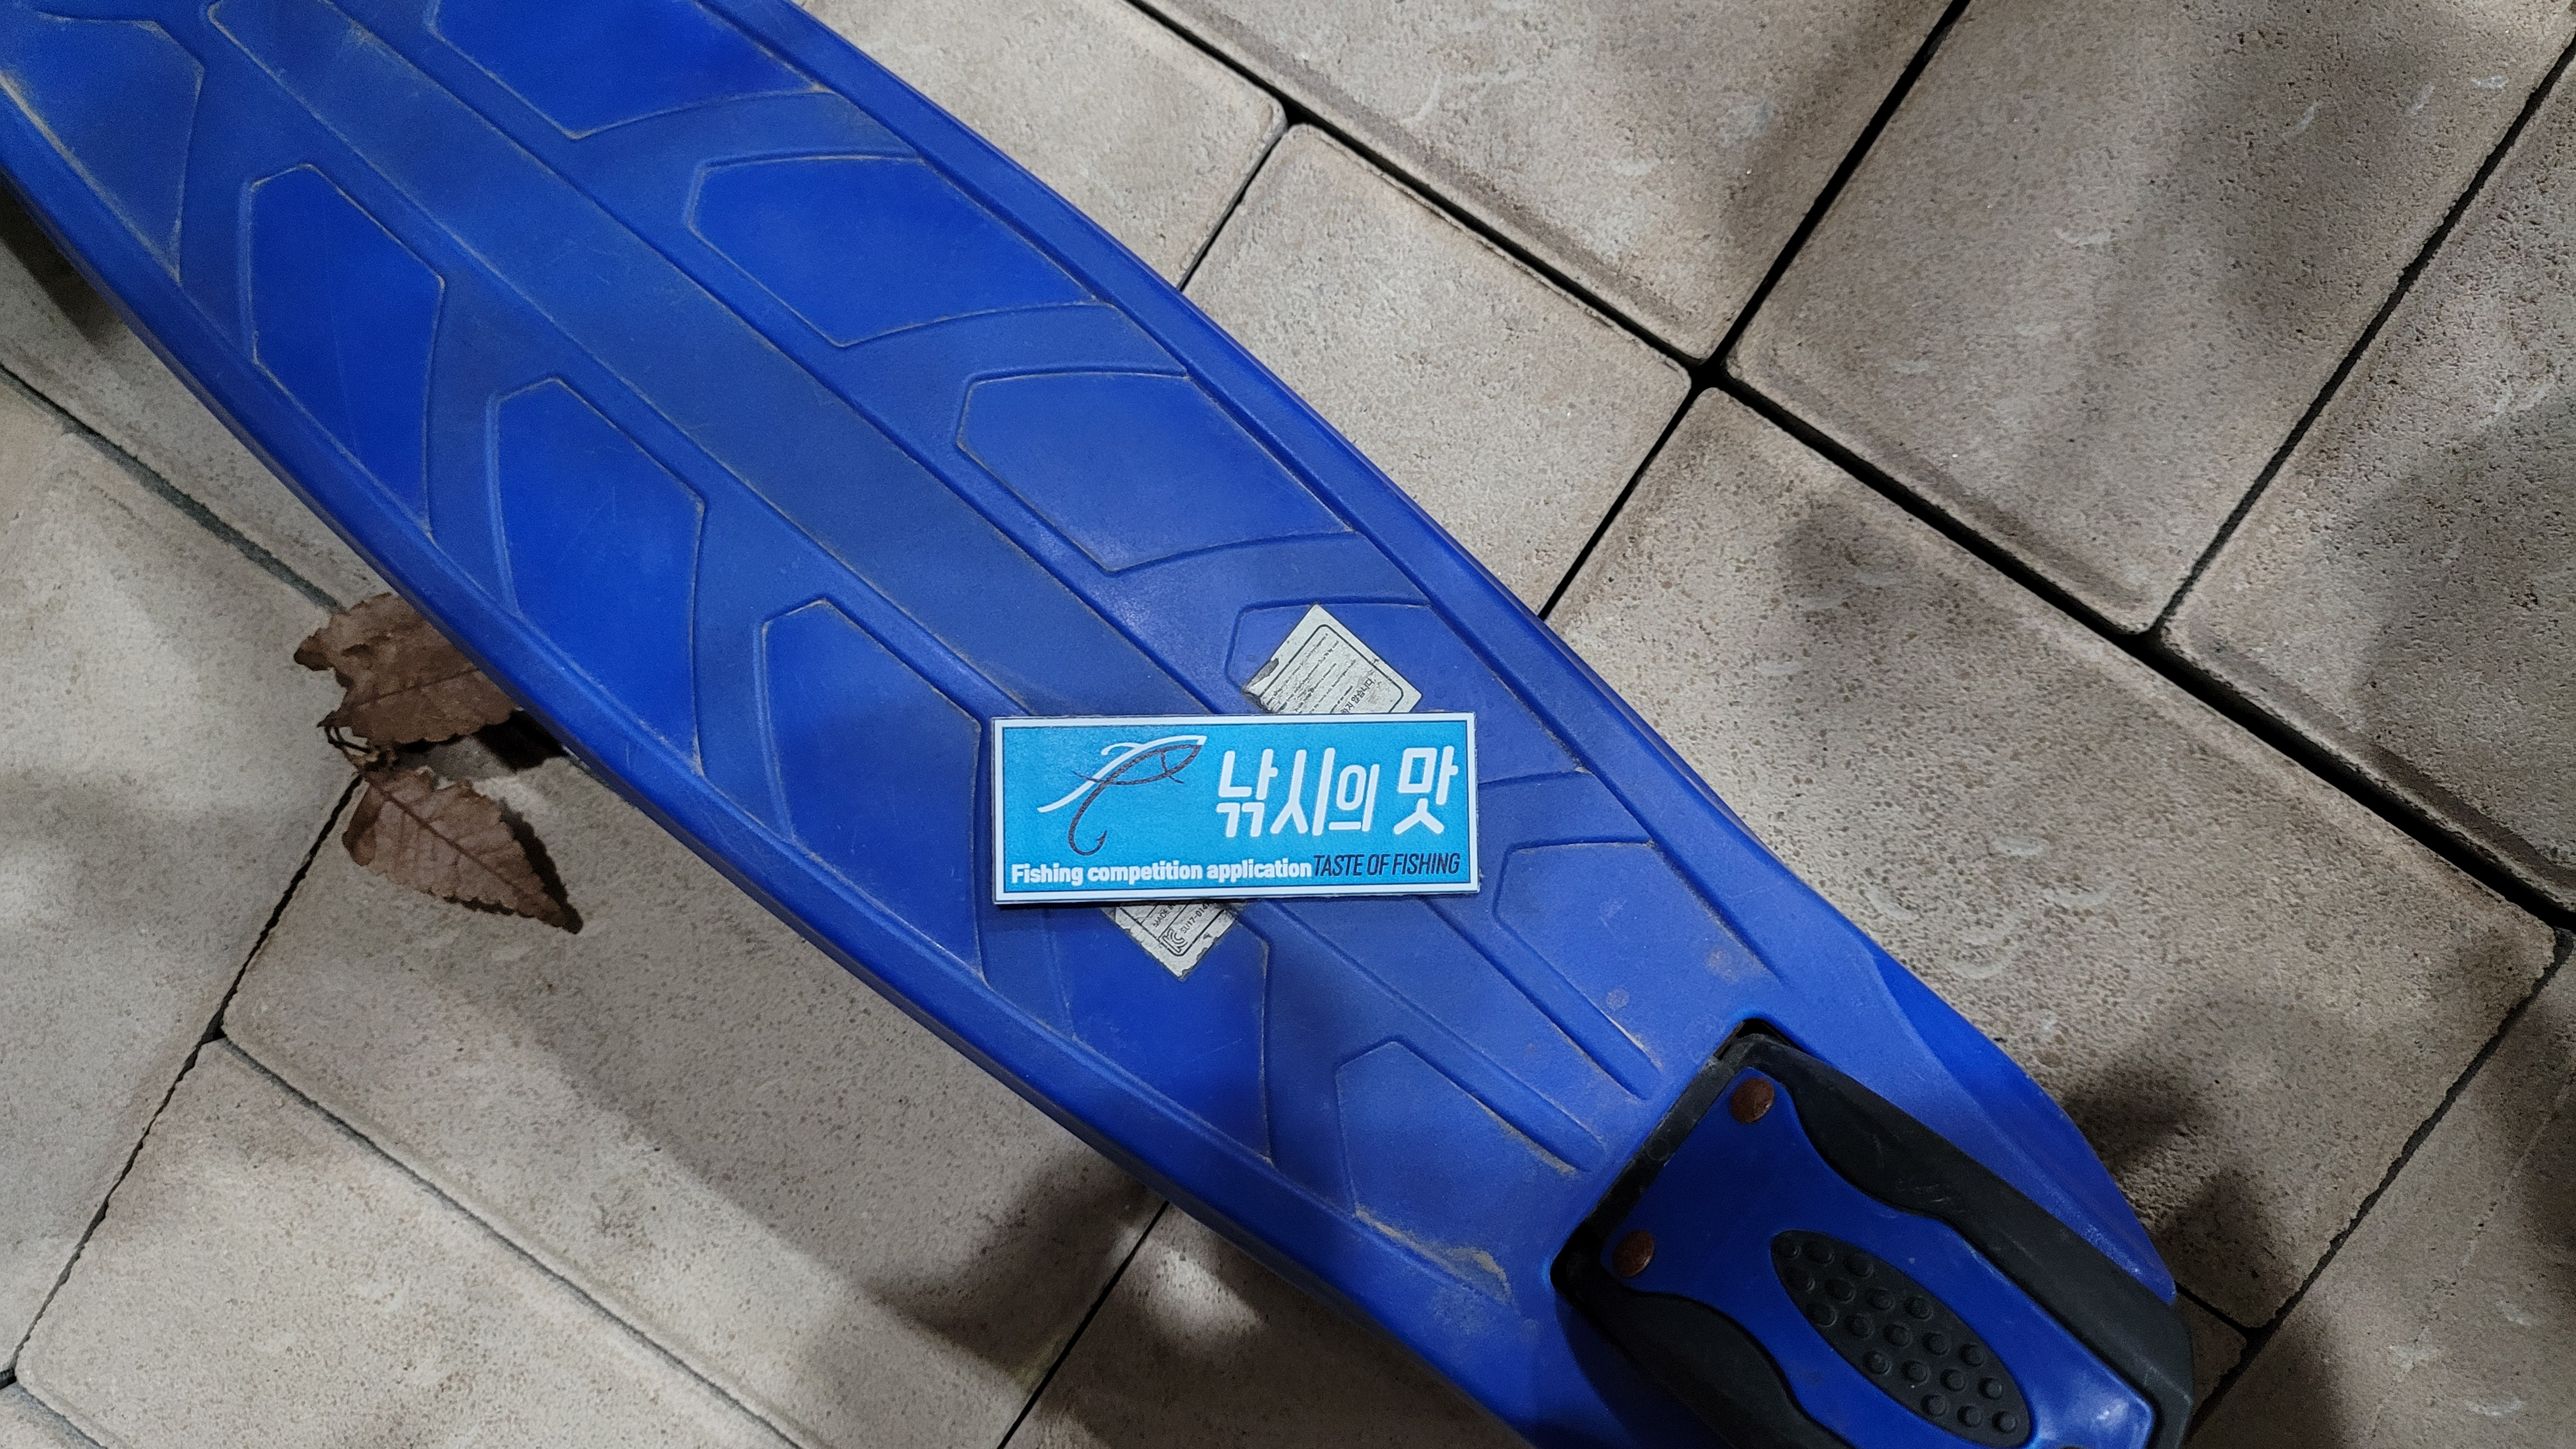tag: (994, 718, 1477, 897)
